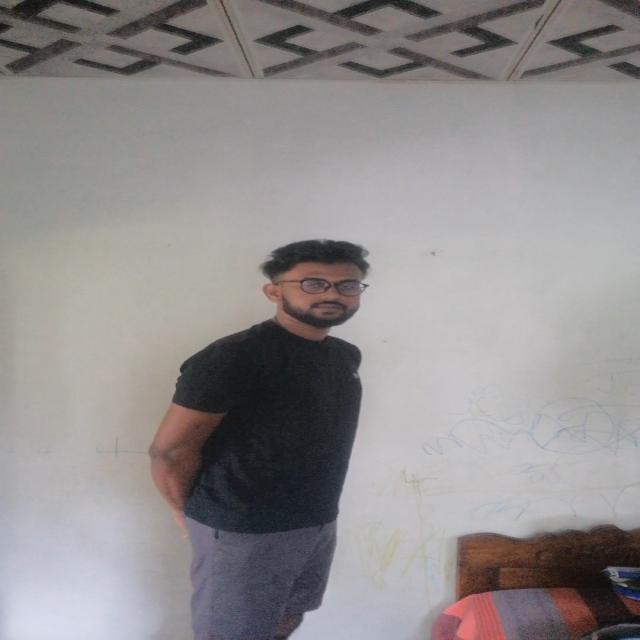Person: (148, 234, 406, 640)
